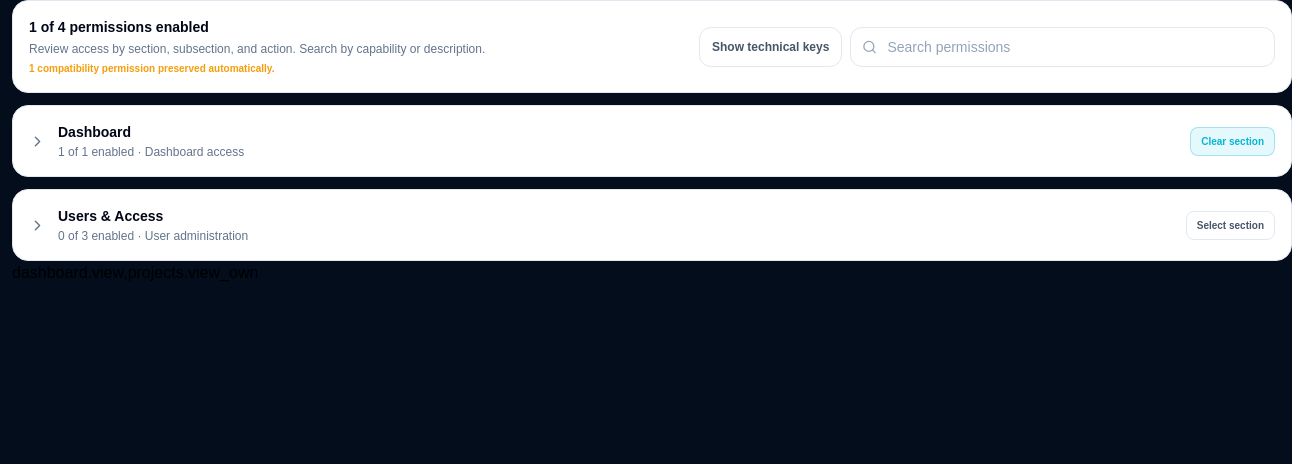
Test case: PermissionEditor › selecting a subsection keeps sibling and compatibility permissions untouched
The width and height of the screenshot is (1292, 464).
Click the button "Users & Access 0 of 3 enabled · User administration": (111, 216) [29,206,1174,244]
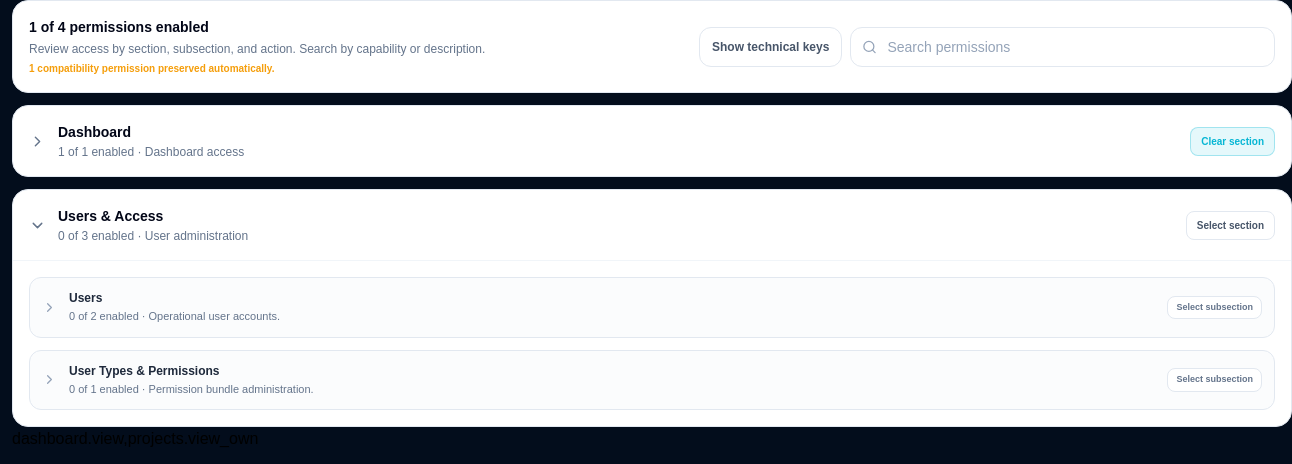
Click the 1st button "Select subsection": (1215, 307) [1168,296,1262,319]
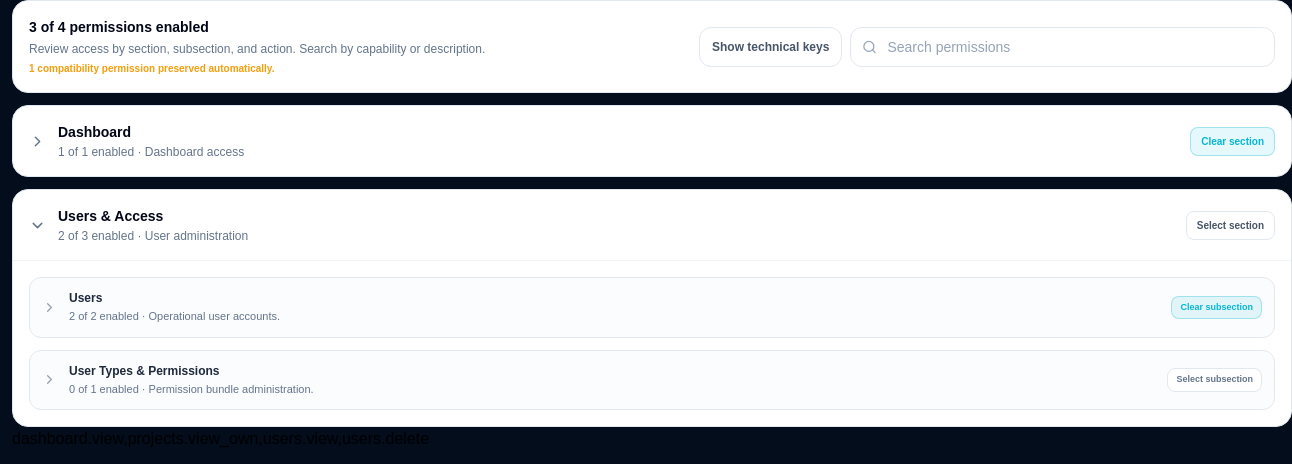
Expected: the text with test id "permissions" shows "dashboard.view", [12,430,429,447]
Now the text with test id "permissions" shows "users.view", box [12,430,429,447]
Now the text with test id "permissions" shows "users.delete", box [12,430,429,447]
